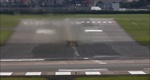maybay_muctieu: (62, 34, 80, 47)
